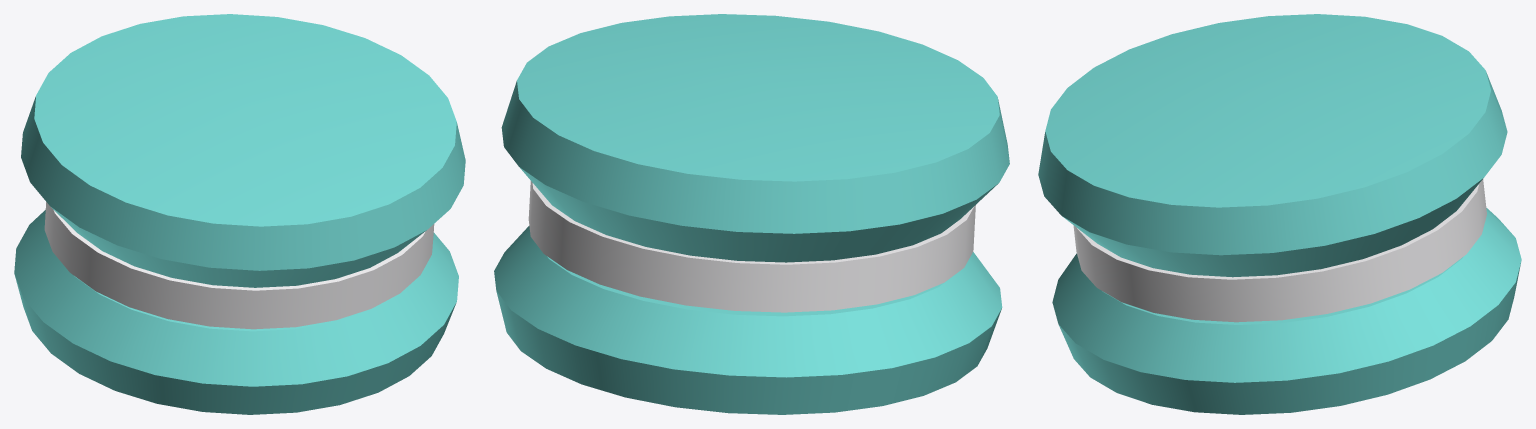
File: Macaron_Rock.fbx
3 views of the same model, side by side, from view 1: azimuth 30°, elevation 25°; view 2: azimuth 150°, elevation 25°; view 3: azimuth 270°, elevation 25° (orthographic). The views are drawn at different scales.
Parts seen in each view (by area): view 1: Macaron_Rock; view 2: Macaron_Rock; view 3: Macaron_Rock.
Boxes of the visible parts, <box> form: Macaron_Rock: <box>14,14,465,414</box>; Macaron_Rock: <box>494,14,1009,414</box>; Macaron_Rock: <box>1038,14,1521,414</box>.
Size of the model in its own units: 4 by 2.32 by 4.1.
